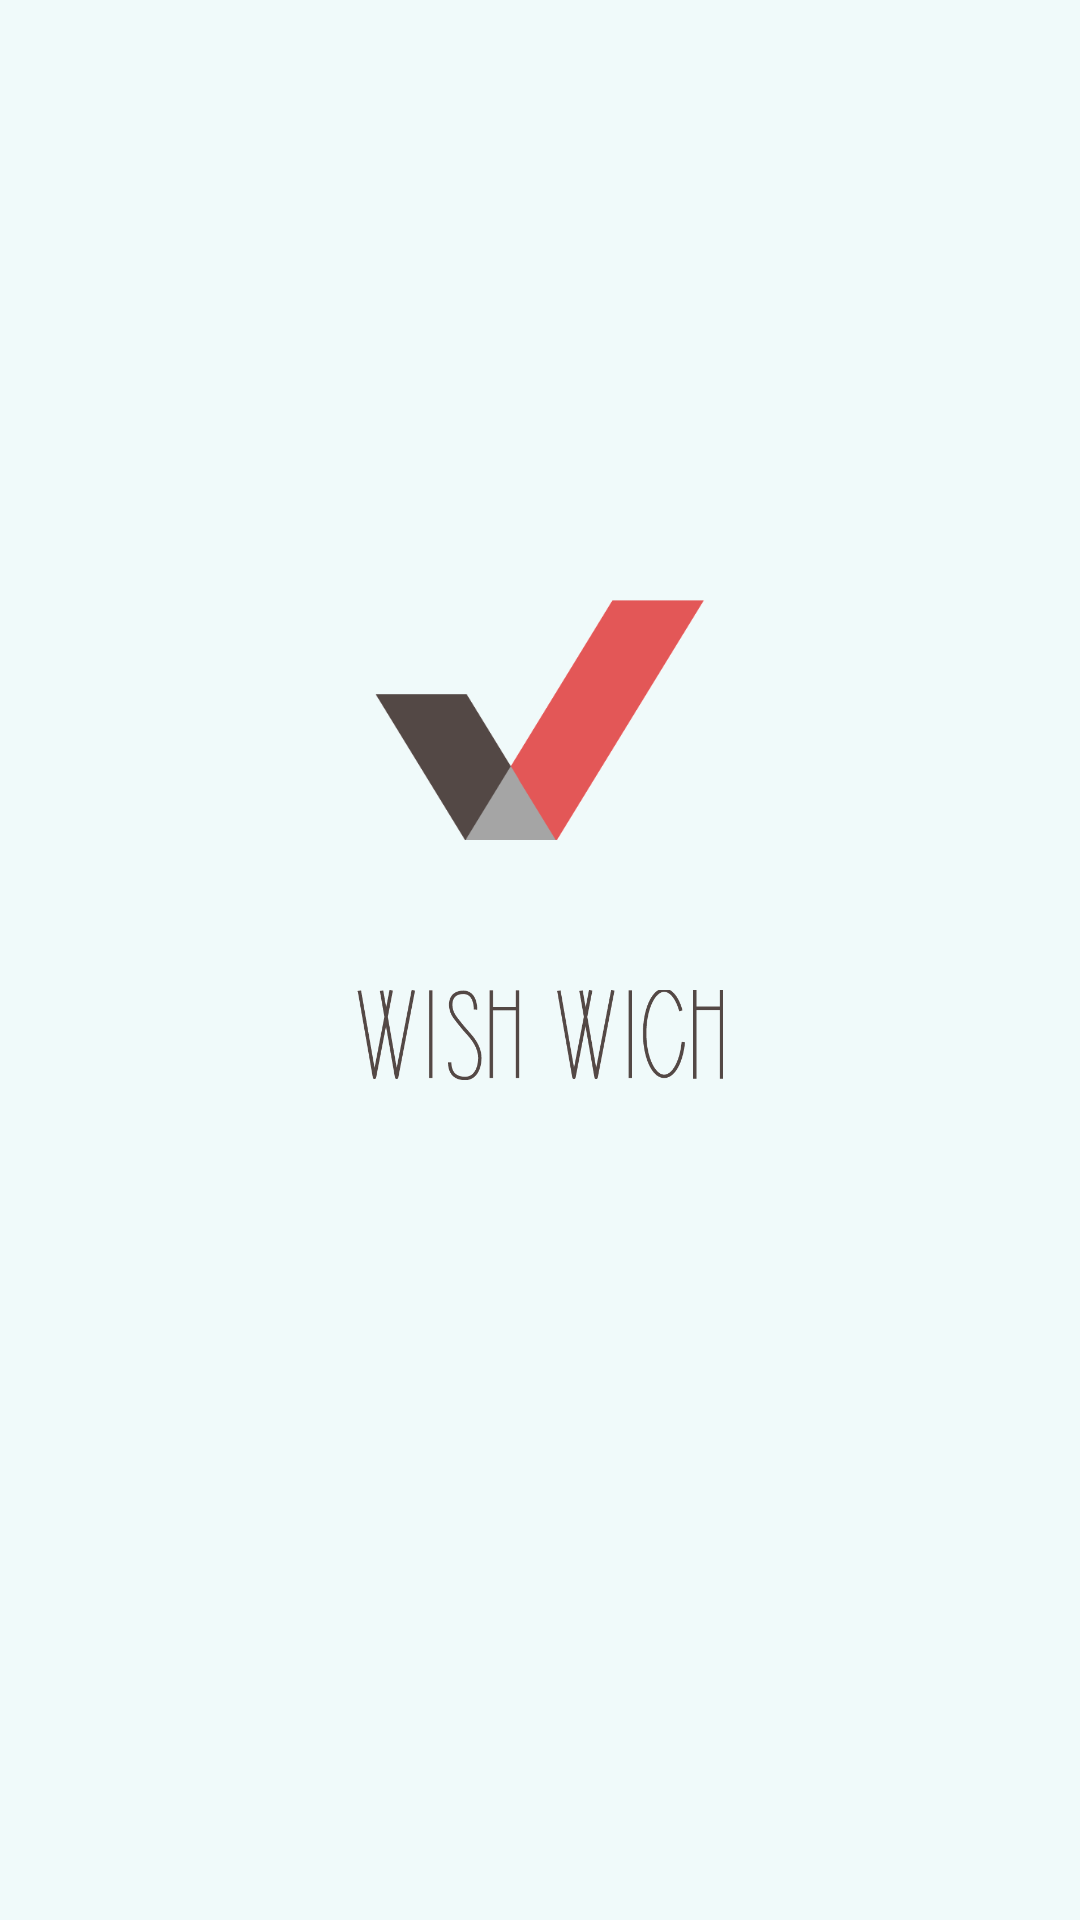

Point at icon controls on the screen. Image size 1080px×1920px, points as [x,y].
app: [540,720]
